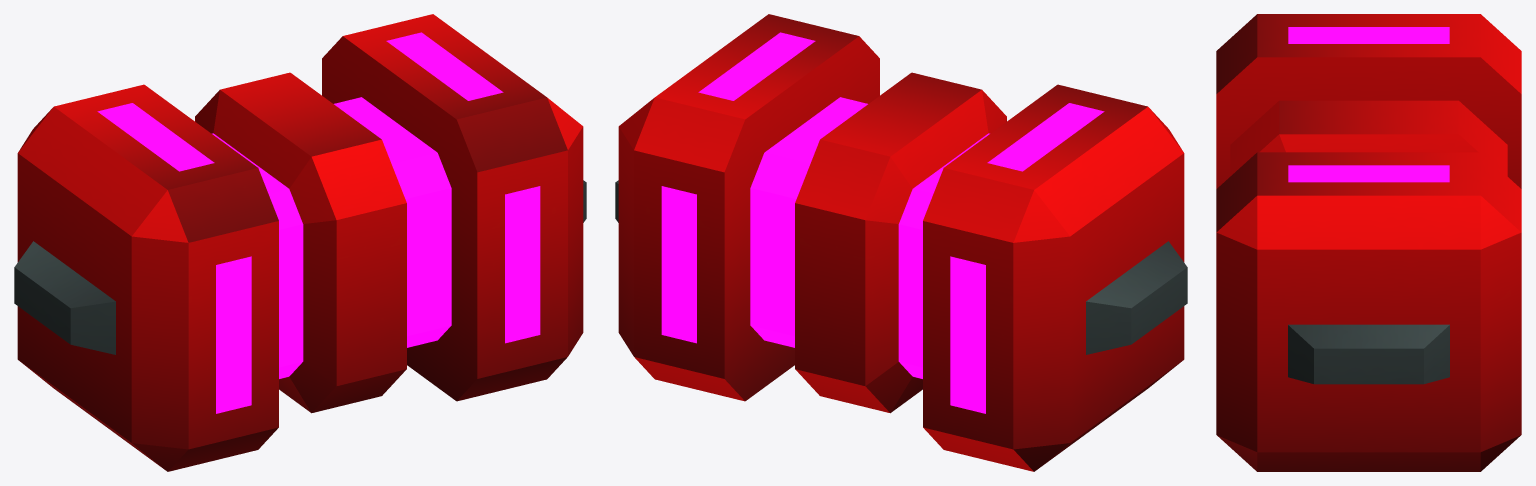
Rendered from item_023.fbx.
3 views of the same model, side by side, from view 1: azimuth 30°, elevation 25°; view 2: azimuth 150°, elevation 25°; view 3: azimuth 270°, elevation 25° (orthographic). The views are drawn at different scales.
Visible parts, largest first — view 1: item.023; view 2: item.023; view 3: item.023.
Part boxes in pixels (bbox=[...]): item.023: bbox=[14, 14, 586, 471]; item.023: bbox=[615, 14, 1187, 471]; item.023: bbox=[1216, 14, 1521, 471].
Size of the model in its own units: 186 by 97.31 by 97.31.
